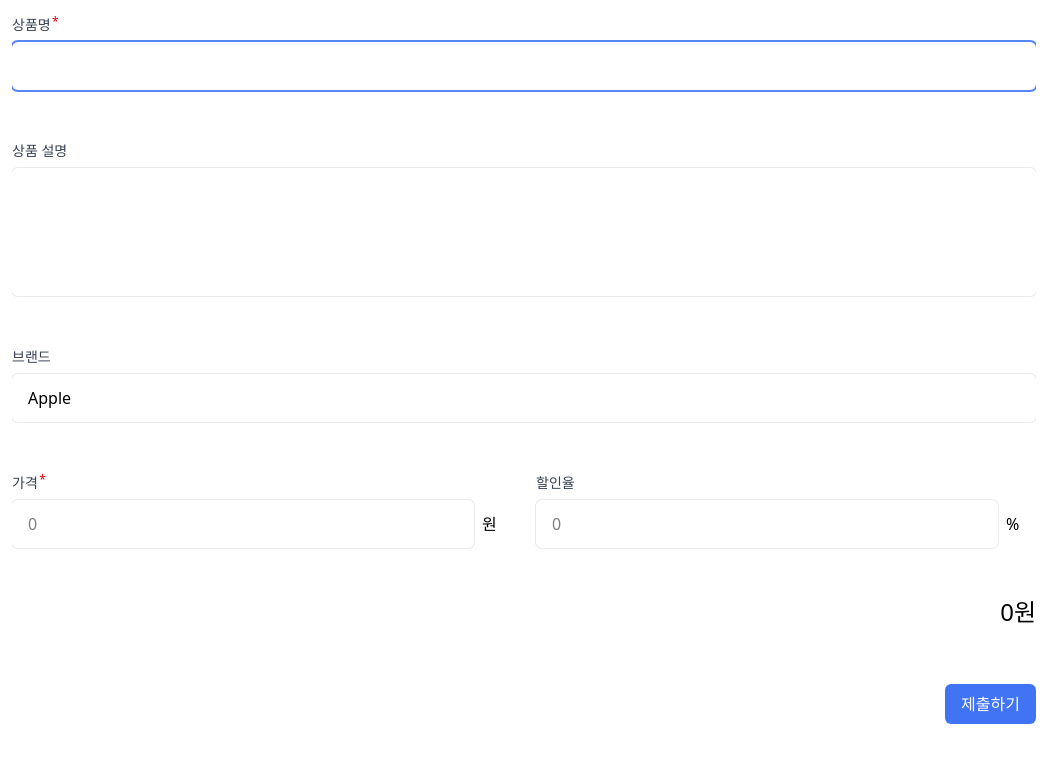
Test case: ProductForm › 상품명이 공백일 때 폼을 제출하면, 메시지가 뜨고 제출 버튼이 비활성화된다.
Click the button "제출하기": (991, 704) [945,684,1036,724]
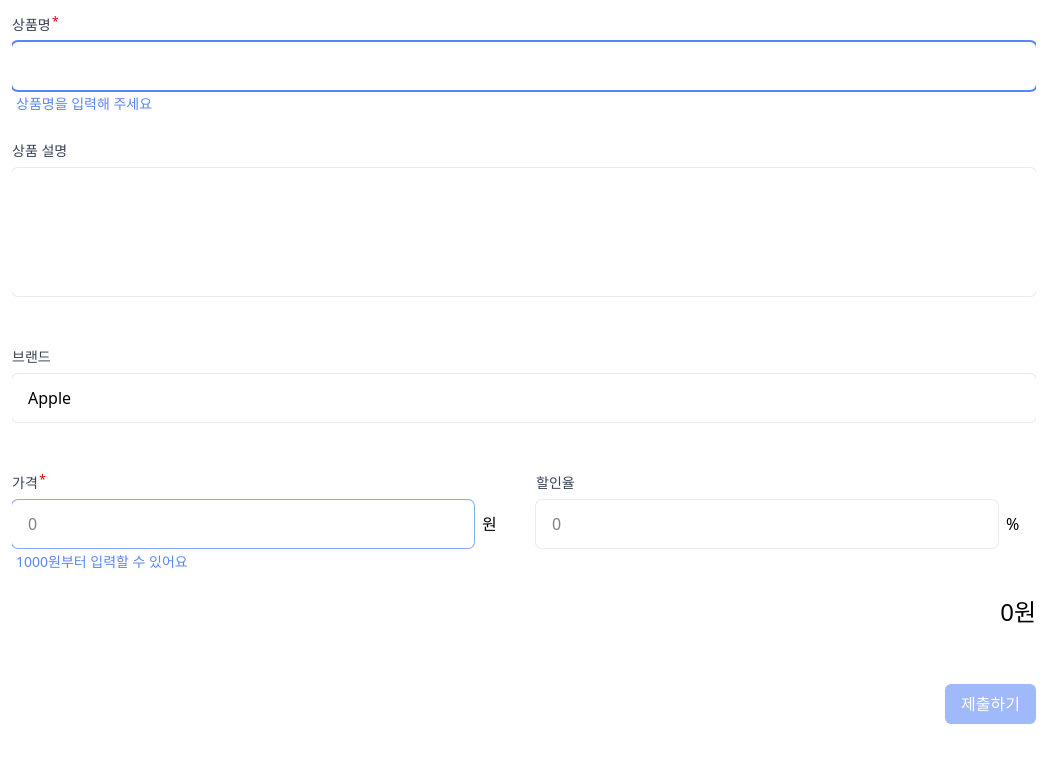
Result: the text "상품명을 입력해 주세요" is shown at [16,94,152,113]
Result: the button "제출하기" is disabled at [945,684,1036,724]
